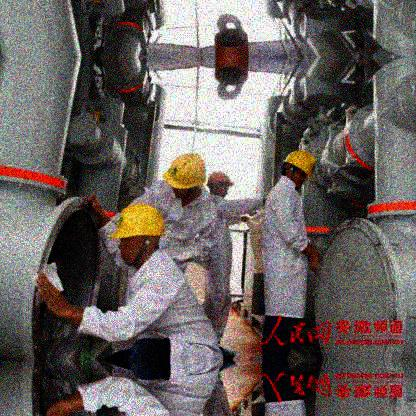helmet: (109, 203, 167, 266), (163, 152, 206, 198), (281, 148, 320, 189), (207, 169, 234, 198)
